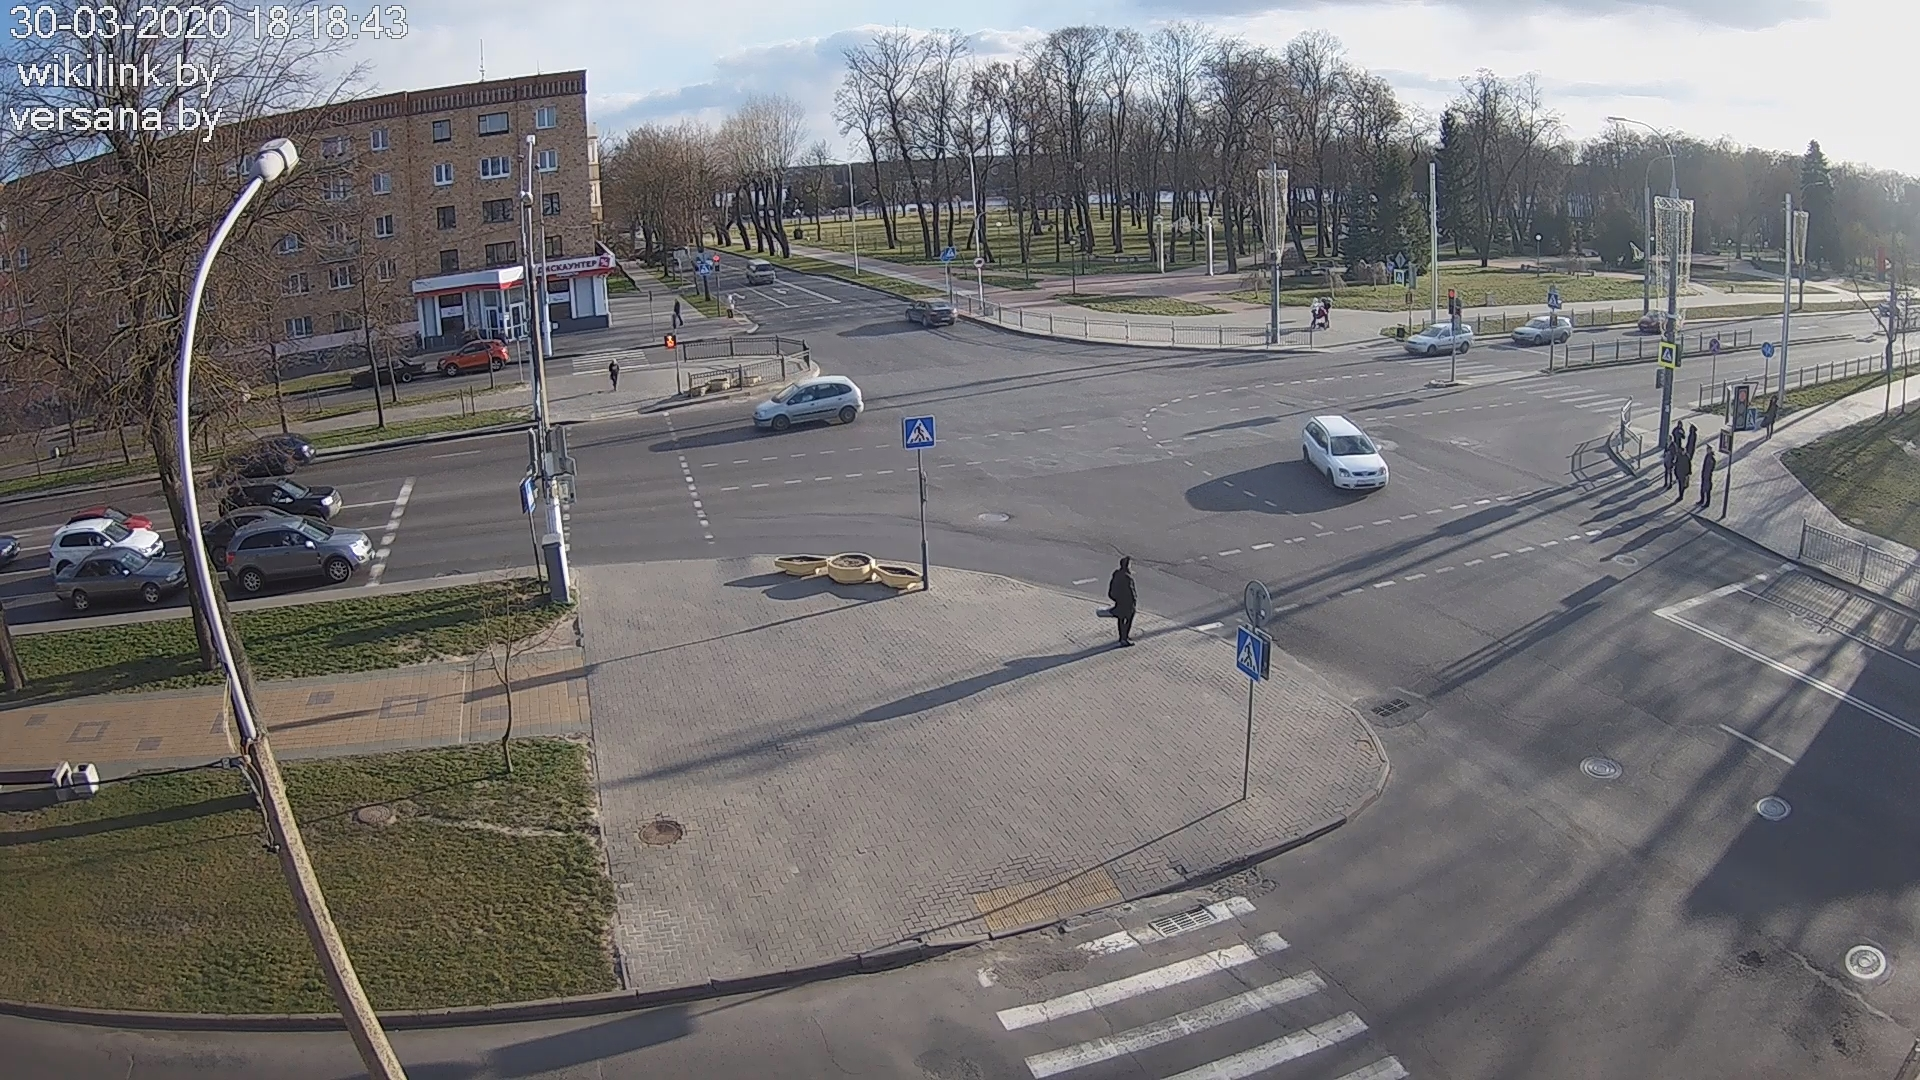car: (225, 516, 375, 592), (55, 547, 185, 611), (47, 518, 164, 579), (1302, 414, 1390, 491), (752, 375, 865, 431), (218, 476, 343, 524), (200, 505, 287, 570), (436, 339, 512, 377), (351, 355, 426, 388), (1404, 322, 1473, 357), (63, 506, 153, 531), (1513, 316, 1573, 345), (905, 297, 956, 327), (746, 258, 775, 285)
